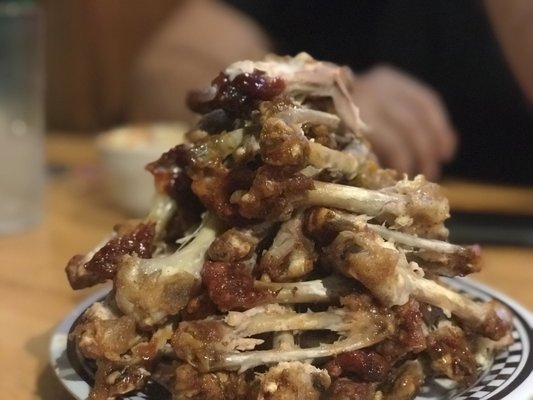pizza: (0, 1, 50, 239)
